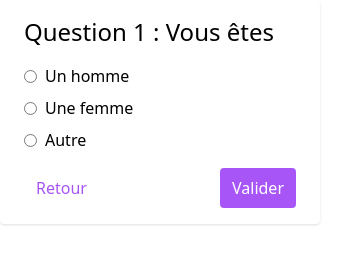
Test: Dynamic Form Component test suite › it shows the next question when the user validate an answer
Click the radio button labelled "Un homme" at point(30, 76), box top-left (24, 70), bottom-right (37, 82)
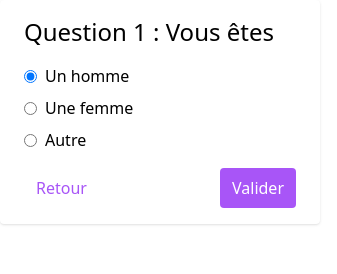
Click the button "Valider" at point(258, 188), box top-left (220, 168), bottom-right (296, 208)
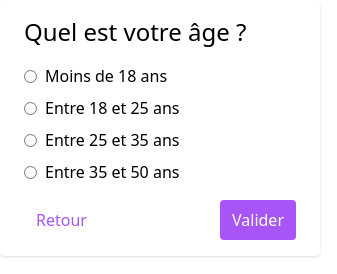
Result: the text "Quel est votre âge ?" is shown at top-left (24, 15), bottom-right (246, 48)
